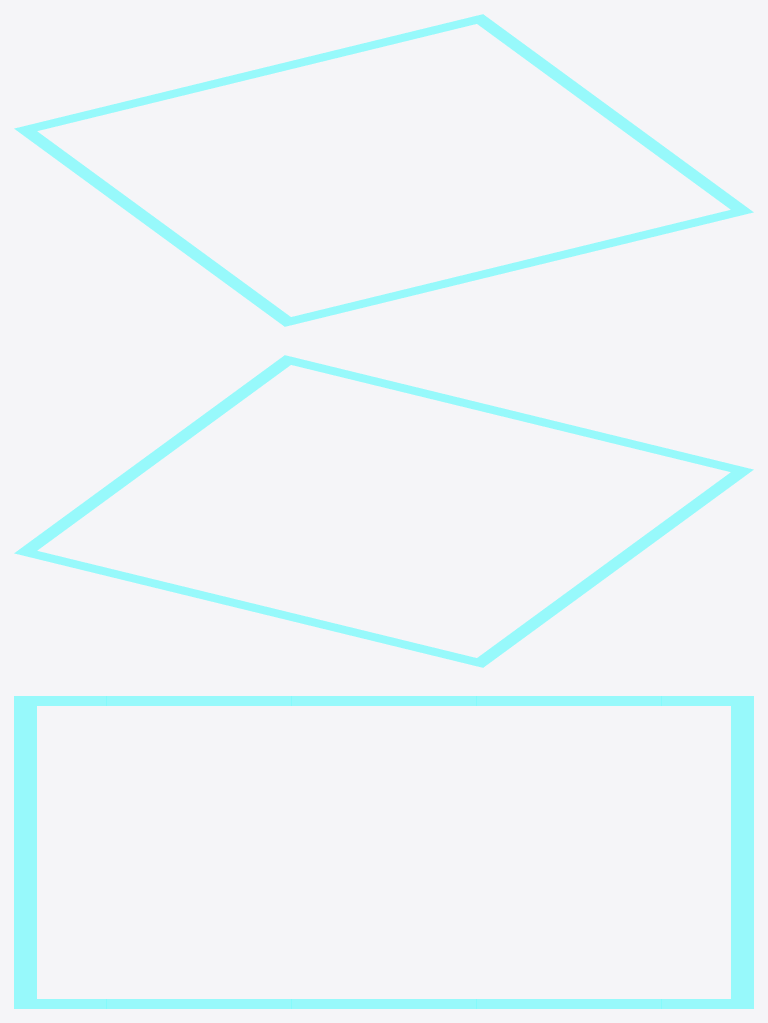
Rendered from trackingSpacev9.fbx.
The picture shows the model from 3 angles, top to bottom: view 1: azimuth 30°, elevation 25°; view 2: azimuth 150°, elevation 25°; view 3: azimuth 270°, elevation 25°; orthographic projection. The views are drawn at different scales.
Parts seen in each view (by area): view 1: Plane.034; view 2: Plane.034; view 3: Plane.034.
Part boxes in pixels (x1=…): Plane.034: x1=14, y1=14, x2=753, y2=326; Plane.034: x1=14, y1=355, x2=753, y2=667; Plane.034: x1=14, y1=696, x2=753, y2=1008.
Size of the model in its own units: 197 by 3.21e-05 by 197.
